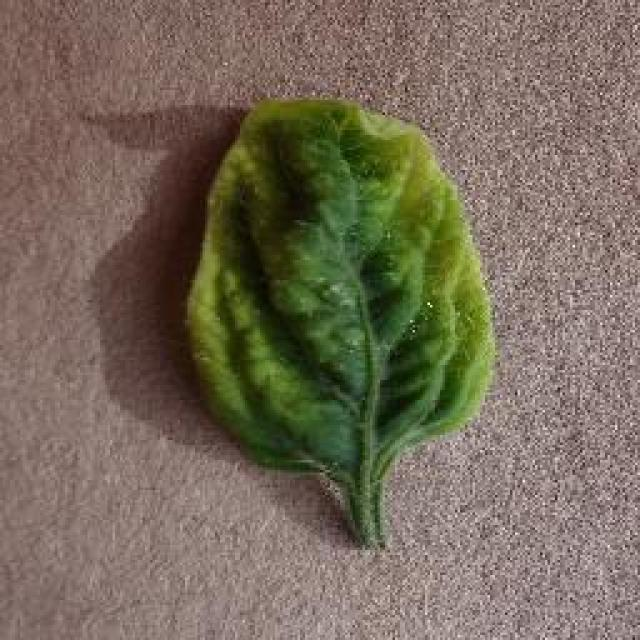Tomato yellow virus leaf: (194, 101, 491, 472)
